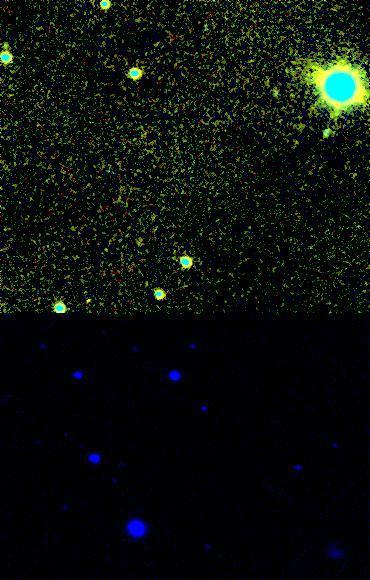star: (0, 27, 16, 57)
